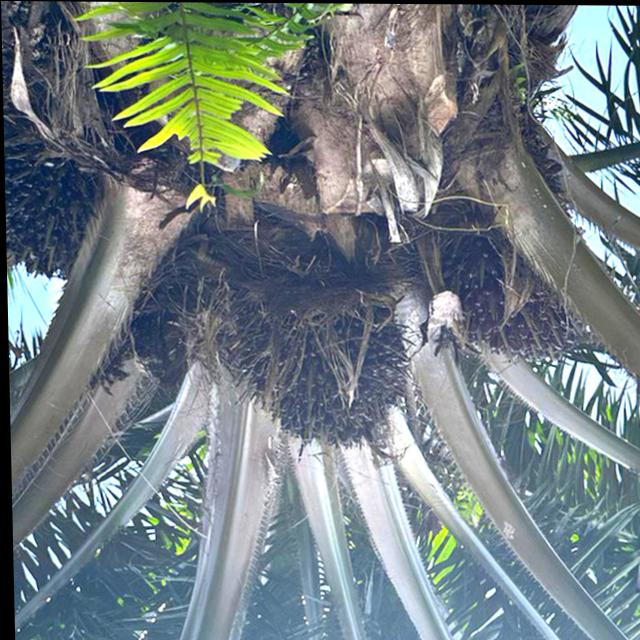unripe: (209, 259, 414, 460), (435, 211, 590, 371), (5, 101, 126, 287)
